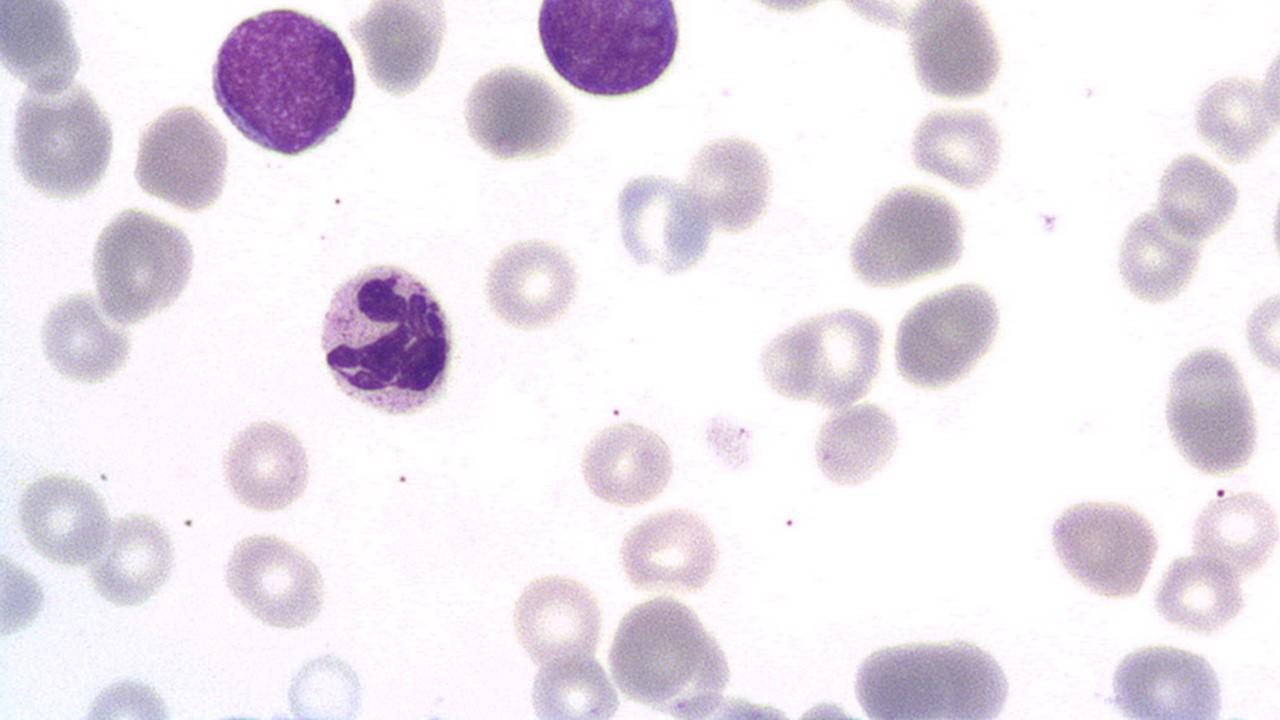RBC: (844, 625, 1022, 717), (1156, 342, 1264, 480), (3, 80, 116, 202), (842, 182, 968, 291), (601, 593, 717, 711), (86, 204, 197, 326), (1041, 492, 1163, 602), (887, 282, 1004, 392), (459, 61, 576, 165), (129, 100, 236, 212), (217, 528, 332, 630), (610, 165, 706, 280), (904, 1, 1006, 105), (506, 568, 608, 672), (479, 233, 585, 332), (13, 467, 114, 568), (1099, 642, 1231, 717), (216, 414, 314, 514), (83, 507, 178, 610), (574, 416, 678, 508), (616, 506, 724, 594), (33, 291, 132, 386), (686, 130, 776, 234), (352, 1, 450, 96), (904, 103, 1010, 190), (800, 303, 886, 410), (1185, 484, 1280, 580), (808, 402, 902, 491), (1, 0, 86, 98), (1151, 550, 1247, 636), (1189, 70, 1275, 160), (1153, 149, 1237, 239), (524, 649, 622, 718), (750, 316, 824, 405), (280, 648, 373, 717), (74, 674, 178, 719), (0, 546, 48, 642), (698, 408, 762, 477), (1243, 283, 1279, 382), (1257, 37, 1279, 143)
WBC: (203, 1, 363, 160), (313, 254, 463, 422), (530, 1, 686, 101)
